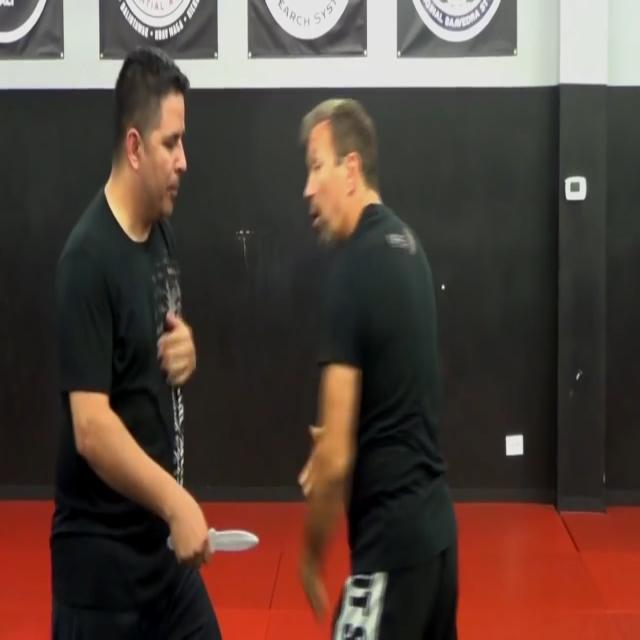knife: (207, 519, 271, 564)
